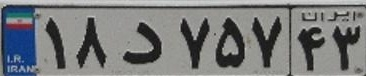character: (116, 18, 166, 71), (172, 9, 212, 73), (247, 12, 286, 74), (72, 11, 111, 71), (212, 11, 248, 72), (328, 22, 366, 76), (39, 14, 71, 73), (293, 22, 328, 75)
